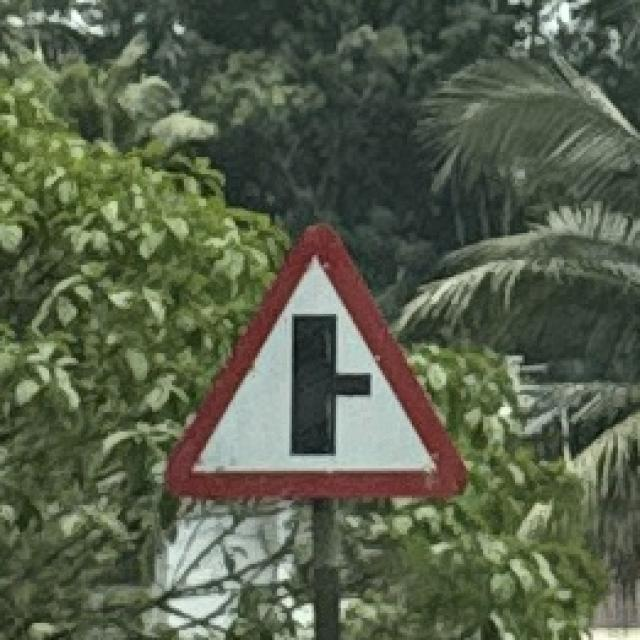SIDE_ROAD_RIGHT: (156, 213, 475, 516)
